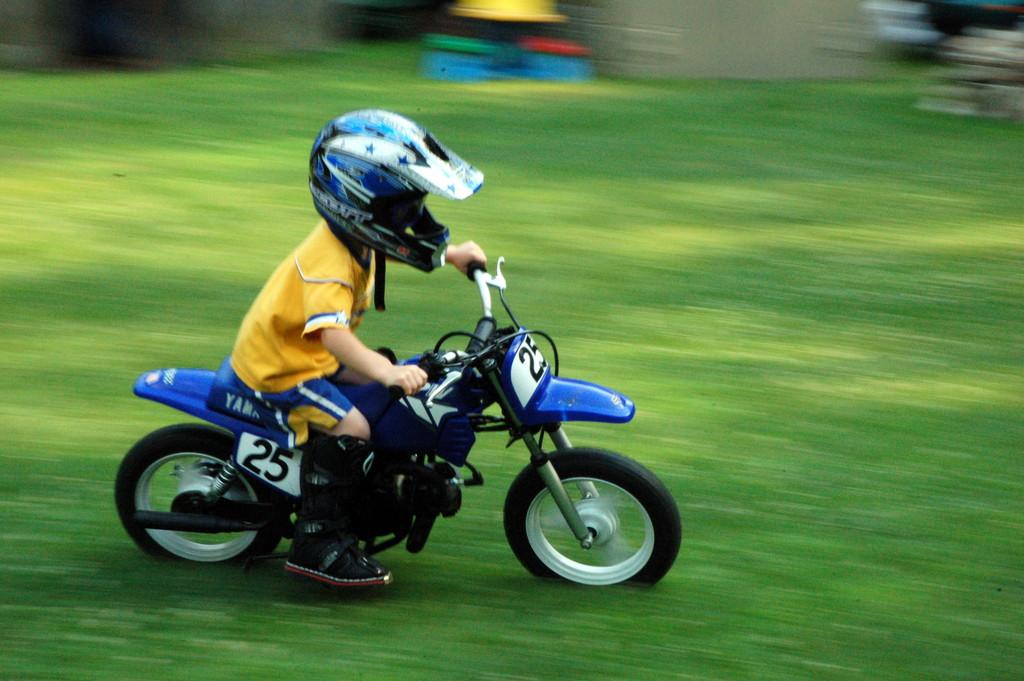helmet: (308, 108, 485, 273)
